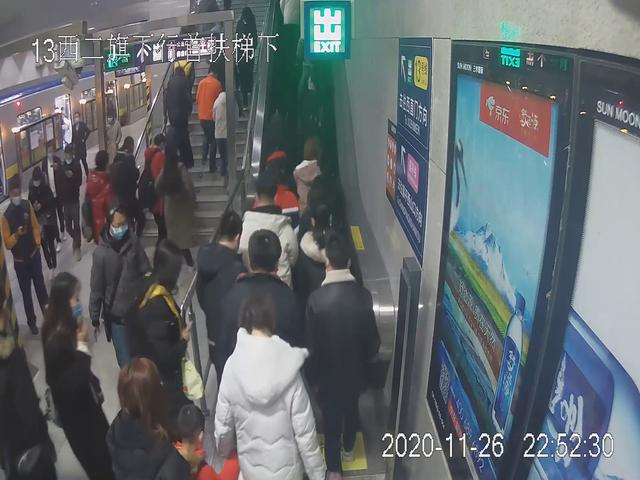person: (302, 230, 385, 479), (221, 290, 323, 480), (38, 268, 115, 480), (87, 197, 157, 417), (142, 236, 208, 449), (4, 168, 55, 340), (195, 66, 228, 184), (163, 69, 201, 171), (55, 146, 83, 265), (88, 144, 115, 267), (29, 165, 58, 273), (66, 111, 91, 191)
